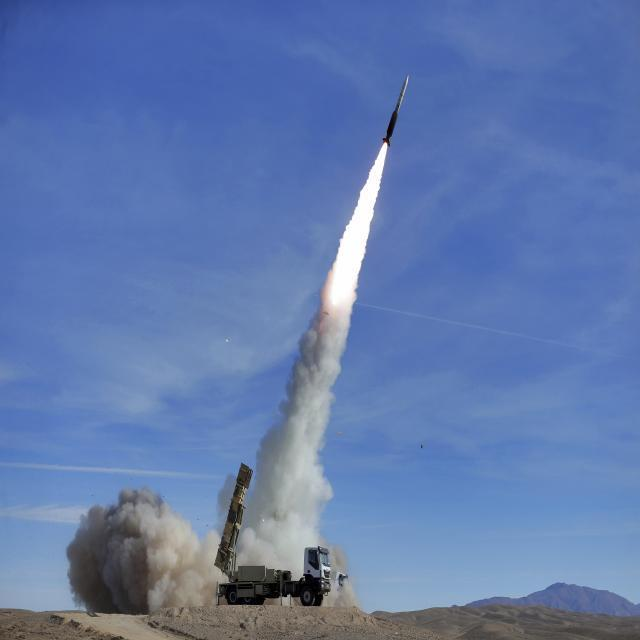missile: (379, 75, 420, 166)
